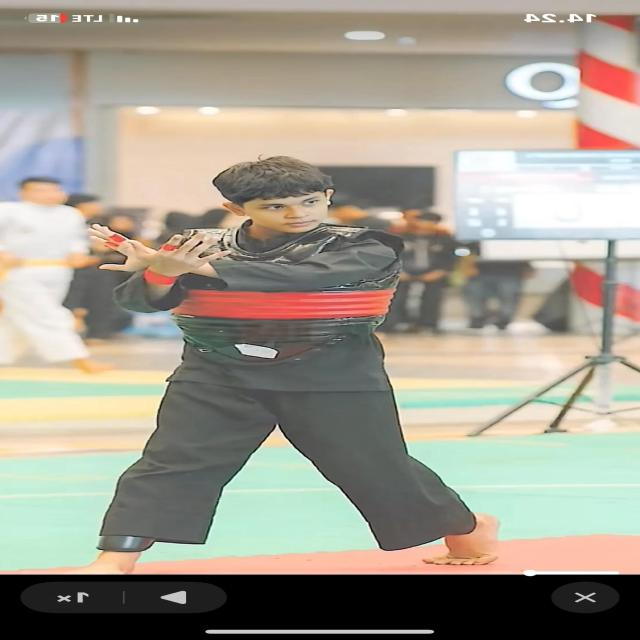nohelmet: (206, 152, 340, 233)
